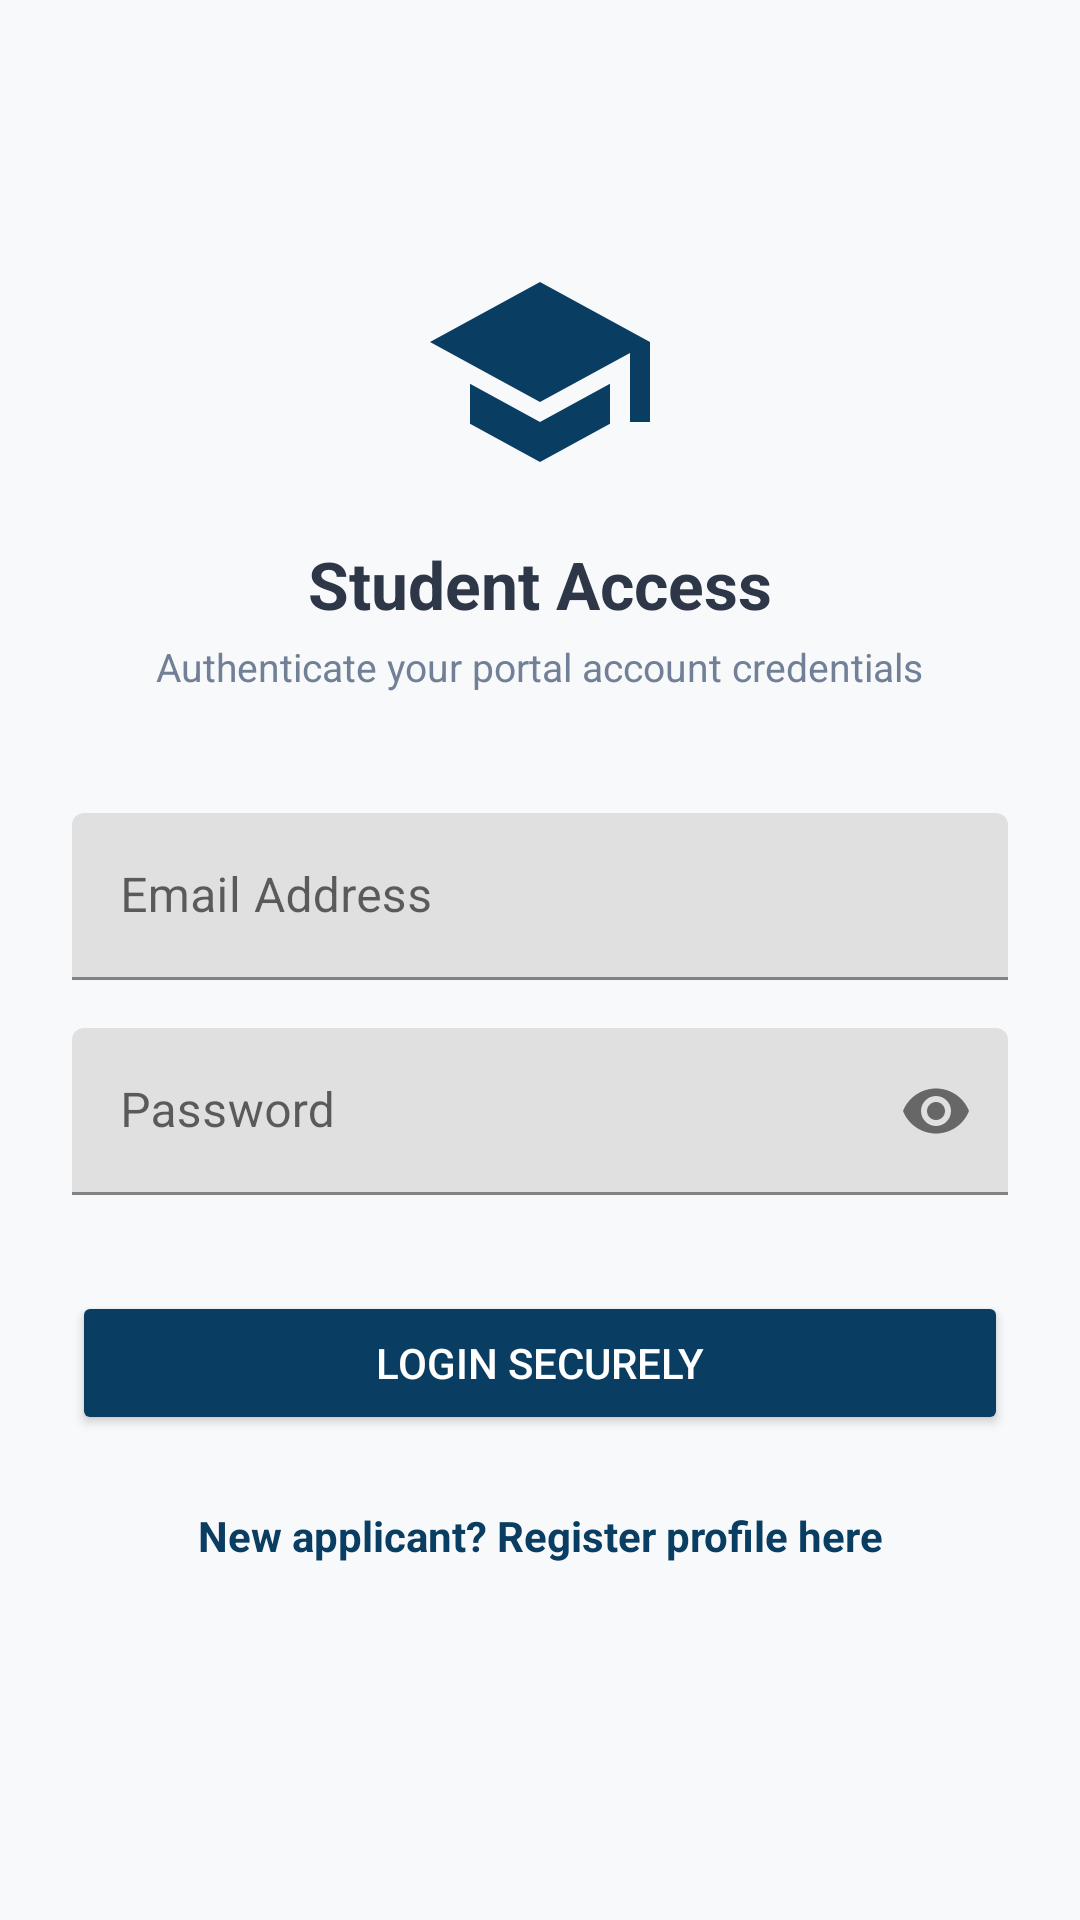

Screen size 1080 × 1920. Icon name, then its center in pixels as (x,y):
scholarship: (540,372)
